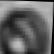correct: (0, 3, 54, 54)
